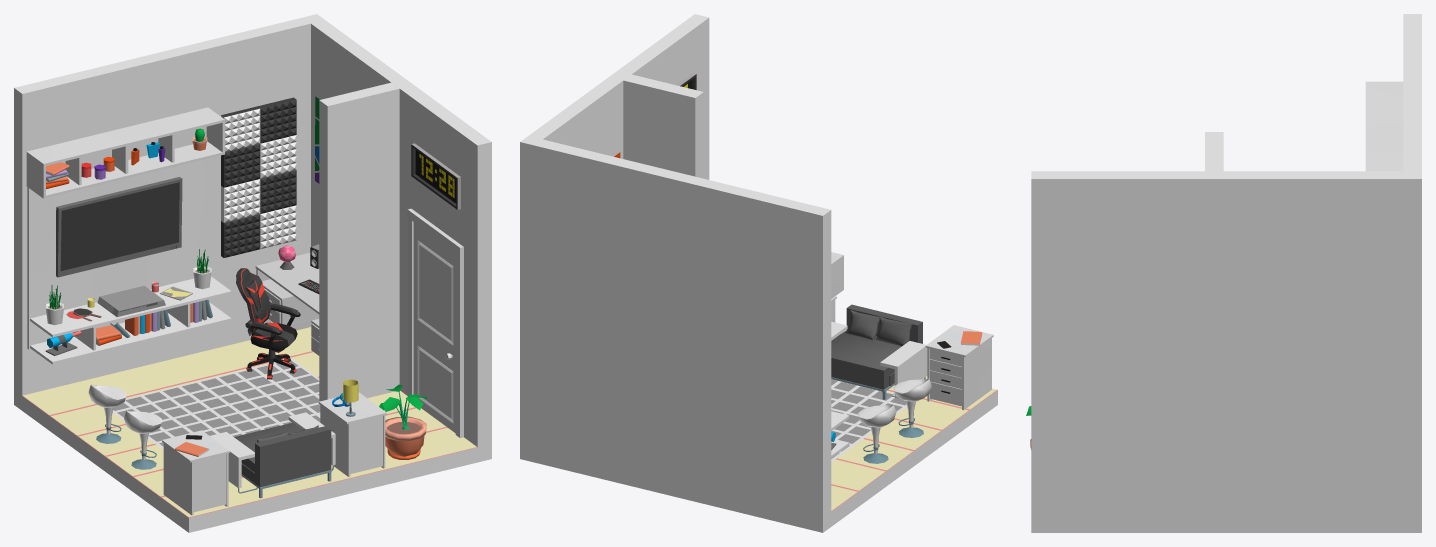
Rendered from room_15.glb.
The picture shows the model from 3 angles, left to right: view 1: azimuth 30°, elevation 25°; view 2: azimuth 150°, elevation 25°; view 3: azimuth 270°, elevation 25°; orthographic projection. The views are drawn at different scales.
Visible parts, largest first — view 1: Walls_006.029, tv_wall_022.001, Walls_005.306, Walls_006.030, wall_001.002, picture_060.001, carpet_021.001, shelf_063.001, Walls_133.006, door_017.002, sofa_025.001, shelf_037.002 (+10 smaller); view 2: Walls_006.029, Walls_006.030, Walls_005.306, sofa_025.001, wall_001.002, shelf_037.002, Walls_133.006, carpet_021.001, kitchen_chair_014.002, kitchen_chair_014.001; view 3: Walls_006.030, shelf_063.001, Walls_006.029, Walls_005.306.
Boxes of the visible parts, x1=… form: Walls_006.029: x1=14, y1=17, x2=310, y2=410; tv_wall_022.001: x1=27, y1=158, x2=231, y2=364; Walls_005.306: x1=319, y1=82, x2=399, y2=401; Walls_006.030: x1=303, y1=14, x2=491, y2=462; wall_001.002: x1=23, y1=327, x2=476, y2=517; picture_060.001: x1=221, y1=97, x2=296, y2=257; carpet_021.001: x1=112, y1=358, x2=320, y2=449; shelf_063.001: x1=26, y1=107, x2=224, y2=198; Walls_133.006: x1=22, y1=351, x2=477, y2=532; door_017.002: x1=413, y1=222, x2=455, y2=432; sofa_025.001: x1=210, y1=412, x2=335, y2=498; shelf_037.002: x1=162, y1=430, x2=229, y2=515; Walls_006.029: x1=534, y1=139, x2=831, y2=532; Walls_006.030: x1=520, y1=14, x2=709, y2=462; Walls_005.306: x1=623, y1=74, x2=703, y2=178; sofa_025.001: x1=831, y1=304, x2=927, y2=399; wall_001.002: x1=831, y1=376, x2=996, y2=510; shelf_037.002: x1=925, y1=325, x2=993, y2=410; Walls_133.006: x1=831, y1=389, x2=997, y2=526; carpet_021.001: x1=831, y1=379, x2=907, y2=461; kitchen_chair_014.002: x1=858, y1=404, x2=896, y2=463; kitchen_chair_014.001: x1=893, y1=378, x2=931, y2=437; Walls_006.030: x1=1031, y1=171, x2=1421, y2=532; shelf_063.001: x1=1365, y1=81, x2=1403, y2=171; Walls_006.029: x1=1403, y1=14, x2=1421, y2=171; Walls_005.306: x1=1205, y1=132, x2=1223, y2=171.
Bounding box in the file's own units: 4.2 × 4.2 × 4.26.
1 material, 1 textured.
